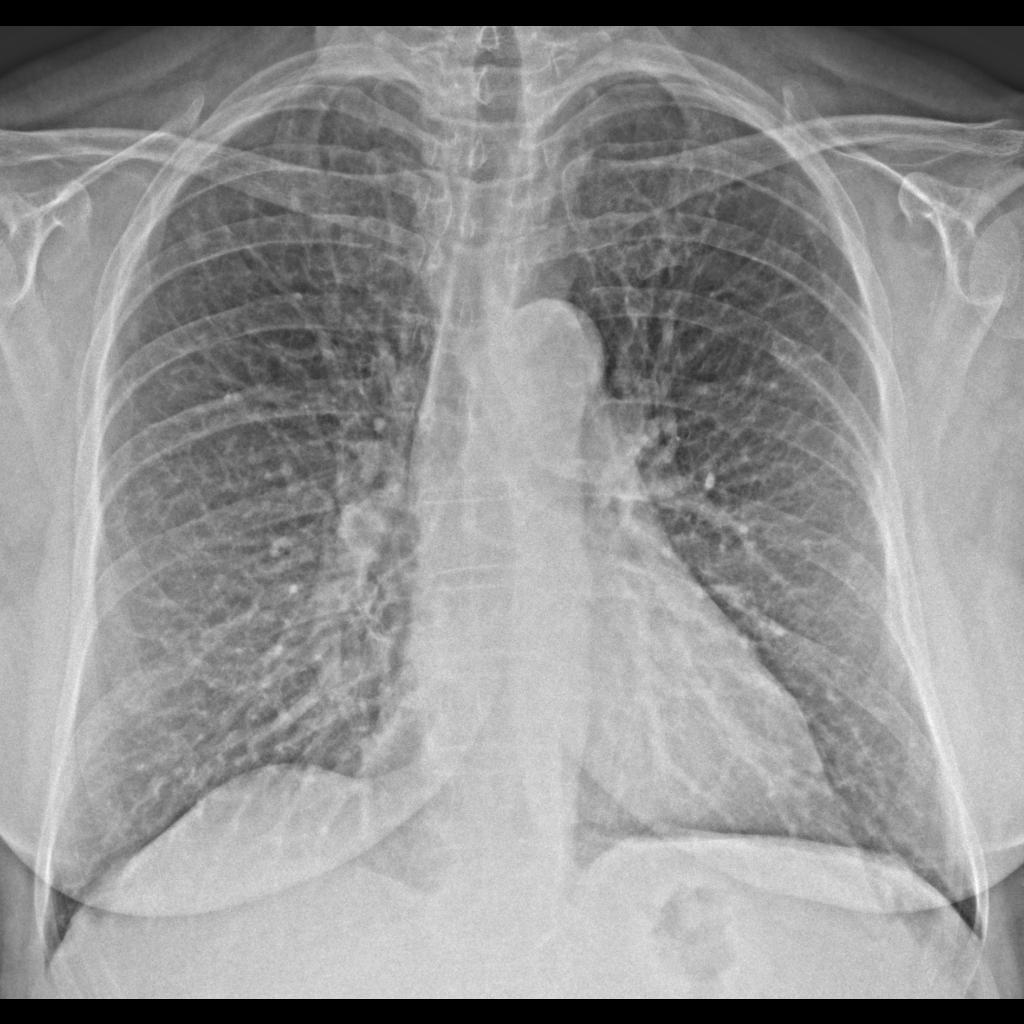Nodule: (184, 219, 219, 261)
